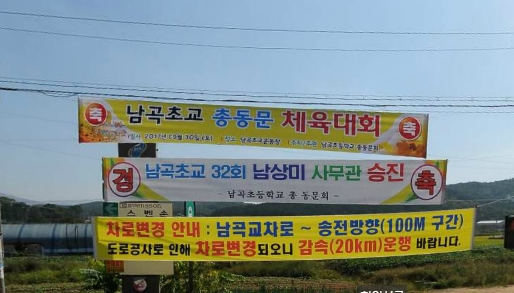banner: (75, 203, 499, 267), (70, 88, 440, 158), (93, 148, 452, 211)
